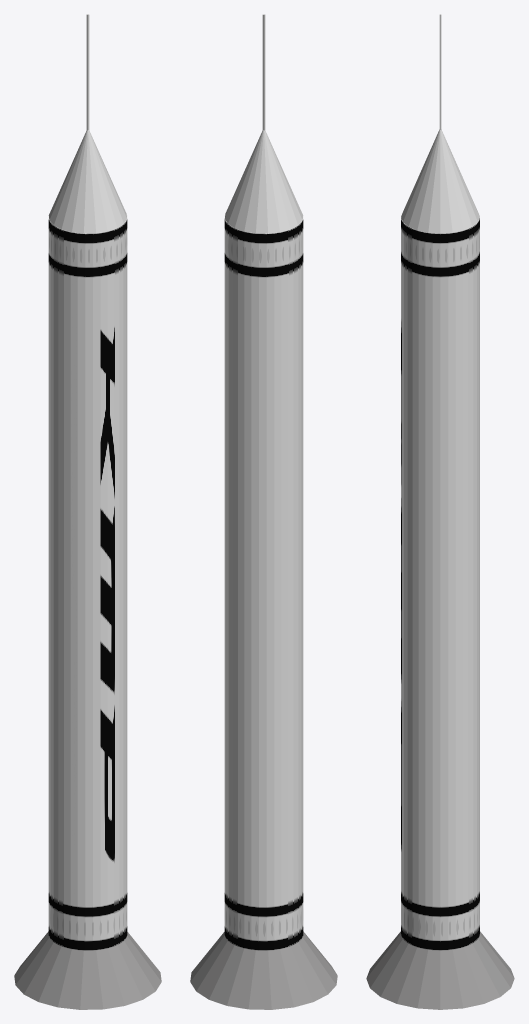
File: KMP_Rocket.fbx
3 renders of one model, left to right at view 1: azimuth 30°, elevation 25°; view 2: azimuth 150°, elevation 25°; view 3: azimuth 270°, elevation 25°, orthographic.
Visible parts, largest first — view 1: 円柱, 円錐.001, 円錐, 立方体; view 2: 円柱, 円錐.001, 円錐, 立方体; view 3: 円柱, 円錐.001, 円錐.
Part boxes in pixels (bbox=[...]): 円柱: bbox=[48, 214, 127, 950]; 円錐.001: bbox=[14, 931, 161, 1009]; 円錐: bbox=[48, 130, 127, 233]; 立方体: bbox=[86, 14, 89, 130]; 円柱: bbox=[224, 214, 303, 950]; 円錐.001: bbox=[190, 931, 337, 1009]; 円錐: bbox=[224, 130, 303, 233]; 立方体: bbox=[262, 14, 265, 130]; 円柱: bbox=[401, 213, 479, 950]; 円錐.001: bbox=[366, 931, 514, 1009]; 円錐: bbox=[401, 129, 479, 233].
Size of the model in its own units: 1500 by 10761 by 1500.
2 materials, 2 textured.
